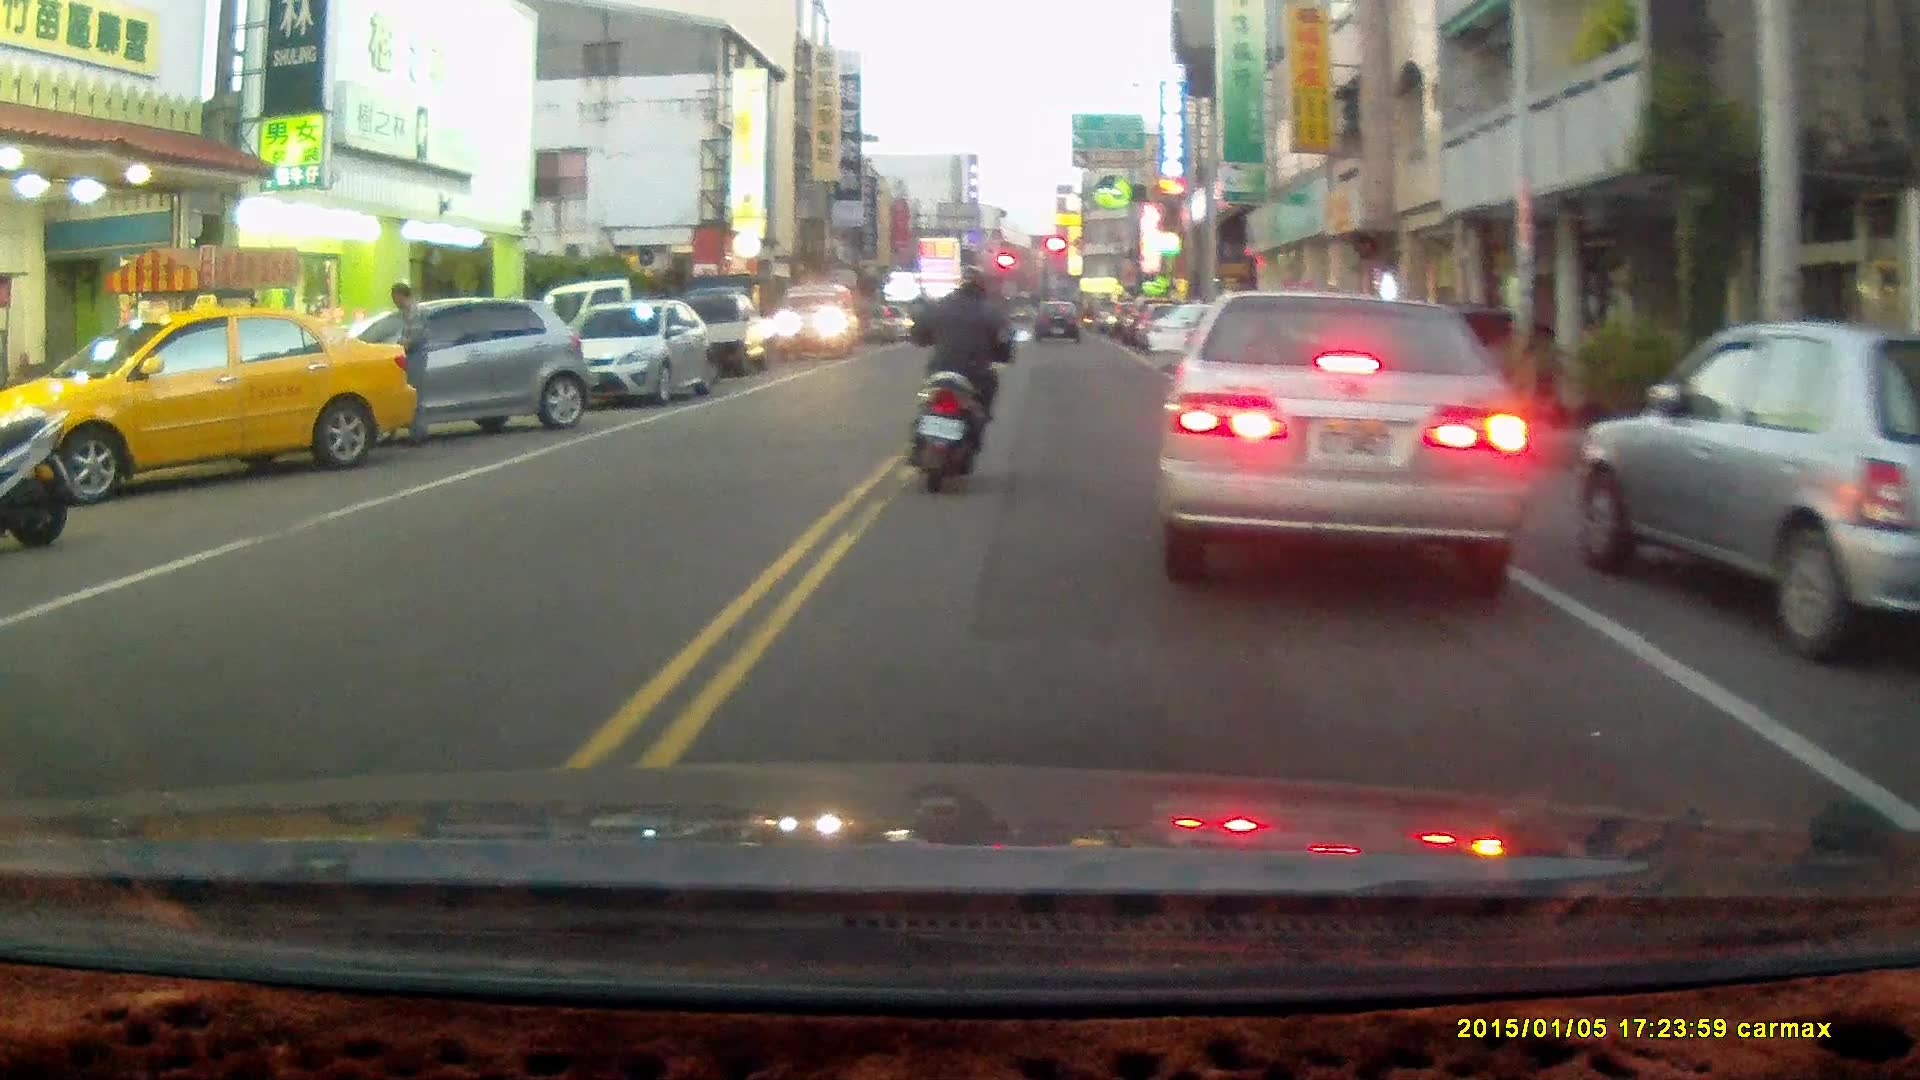pedestrian: (383, 279, 442, 449)
rider: (903, 259, 1029, 489)
vehicle: (1584, 310, 1920, 658), (1151, 280, 1534, 584), (1, 304, 416, 506), (310, 292, 596, 433), (568, 297, 722, 407), (708, 285, 802, 380), (777, 279, 860, 356)
